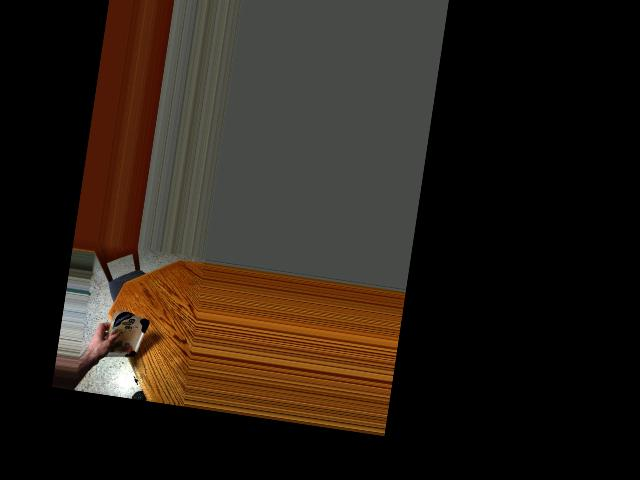cheese: (103, 306, 147, 367)
